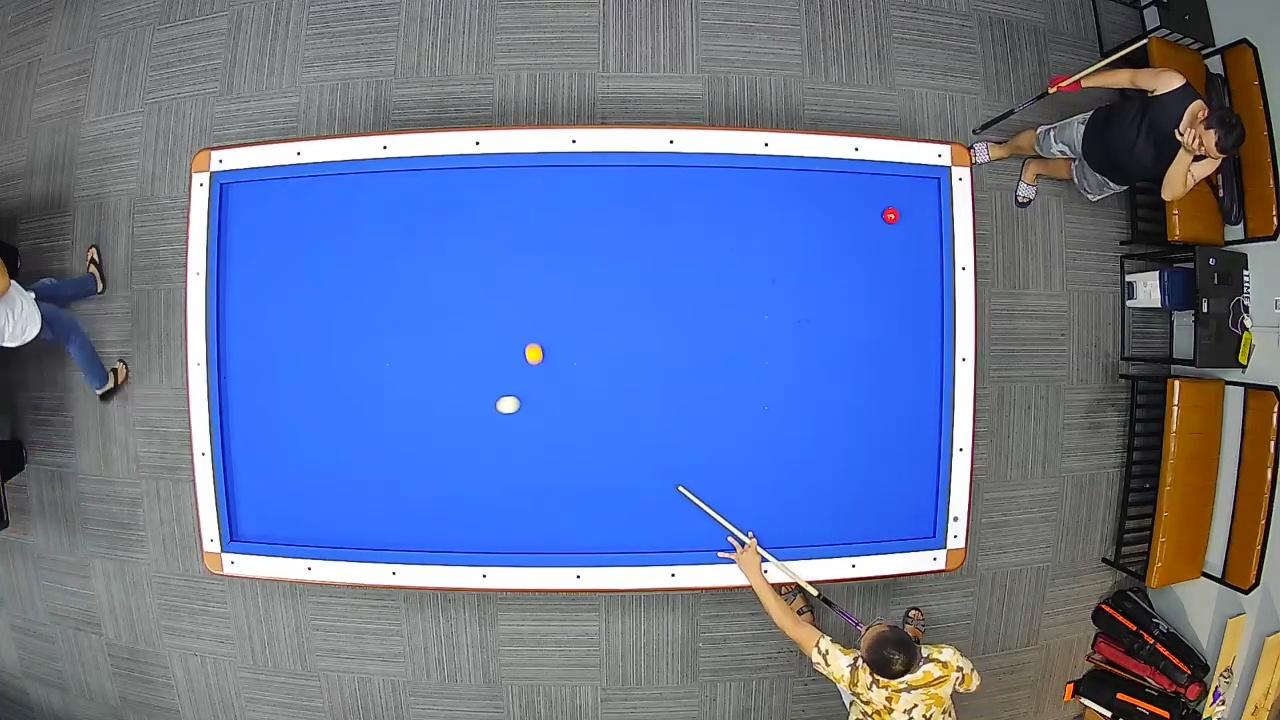Red: (882, 206, 902, 227)
White: (496, 395, 520, 415)
Yellow: (524, 342, 544, 366)
